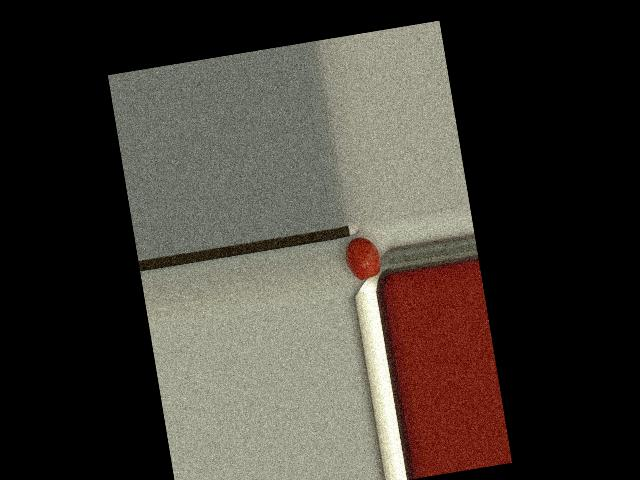tomato: (342, 234, 383, 282)
